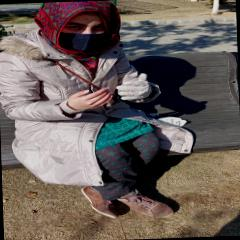gloved: (117, 74, 152, 101)
not-gloved: (68, 87, 112, 110)
